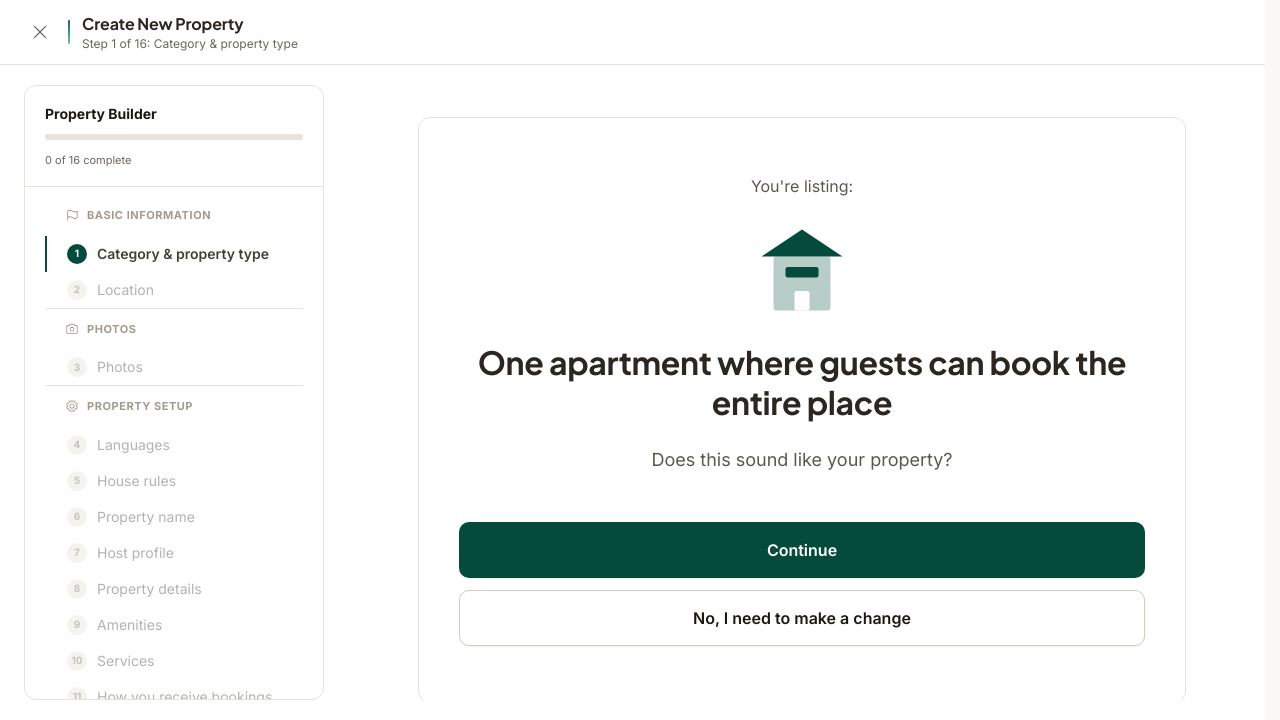
Test: PropertyConfirmPage — One apartment confirmation › moves to the other-listings screen without creating a draft
Step 1. Click the button "Continue" → point(802, 550), box [459,522,1145,578]
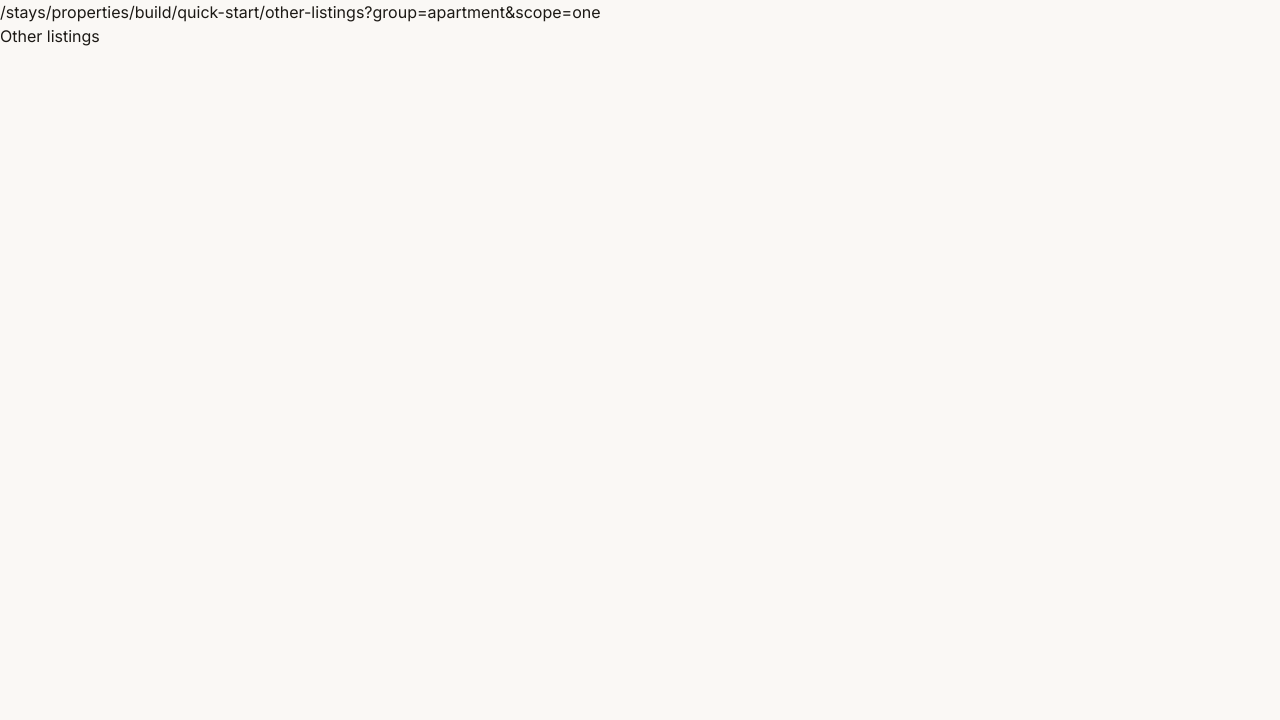
Expected: the text with test id "location" reads "/stays/properties/build/quick-start/other-listings?group=apartment&scope=one", [0,2,600,22]
